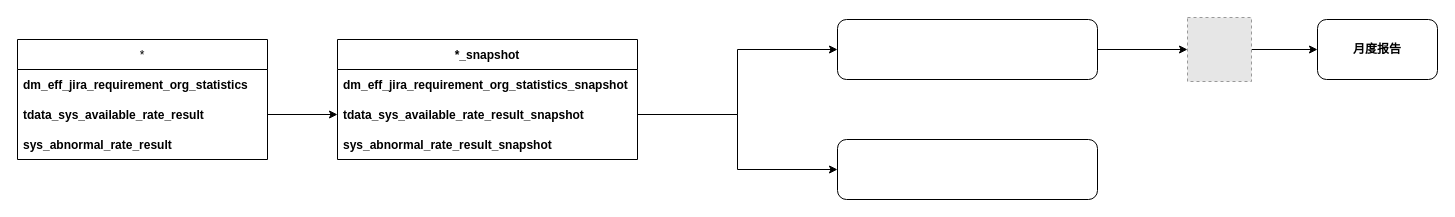
Some shapes in this 1455 by 217 pixel diagram are drawn without their labels. Grey dashed boxes stand in for pictures. The shapes that lost their labels are listed below. From the top down, each one's centre as x and y in pixels, then its label:
At [967,49]: "tb_evaluation_metrics_value".
At [967,169]: "tb_evaluation_metrics_summary_snapshot".
